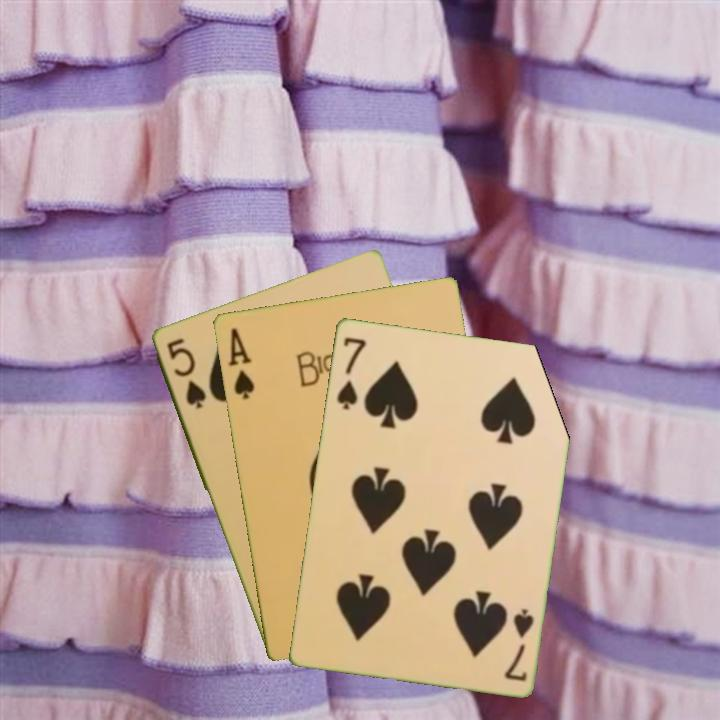5s: (162, 334, 209, 412)
7s: (333, 333, 369, 412), (501, 604, 536, 683)
As: (224, 324, 257, 402)
